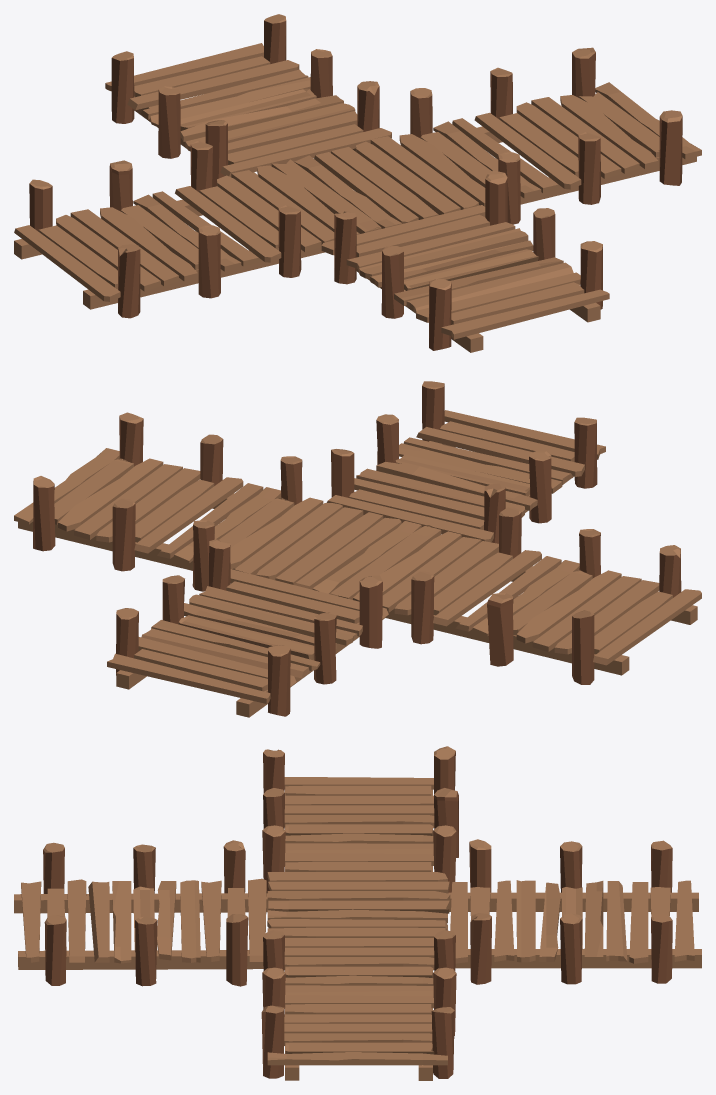
The model's file is Cais_Quatro_Entradas.fbx.
3 views of the same model, one above another, from view 1: azimuth 30°, elevation 25°; view 2: azimuth 150°, elevation 25°; view 3: azimuth 270°, elevation 25° (orthographic). The views are drawn at different scales.
Visible parts, largest first — view 1: Plane; view 2: Plane; view 3: Plane.
Boxes of the visible parts, x1,y1,x2,y2 form: Plane: (14,14,701,352); Plane: (14,381,701,717); Plane: (14,746,701,1080).
Bounding box in the file's own units: 353 × 38.45 × 357.
